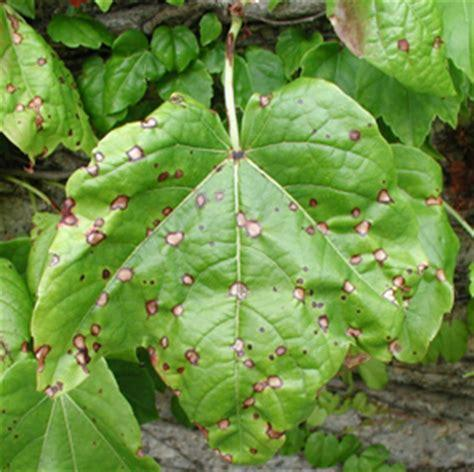black-spot: (230, 209, 334, 367)
